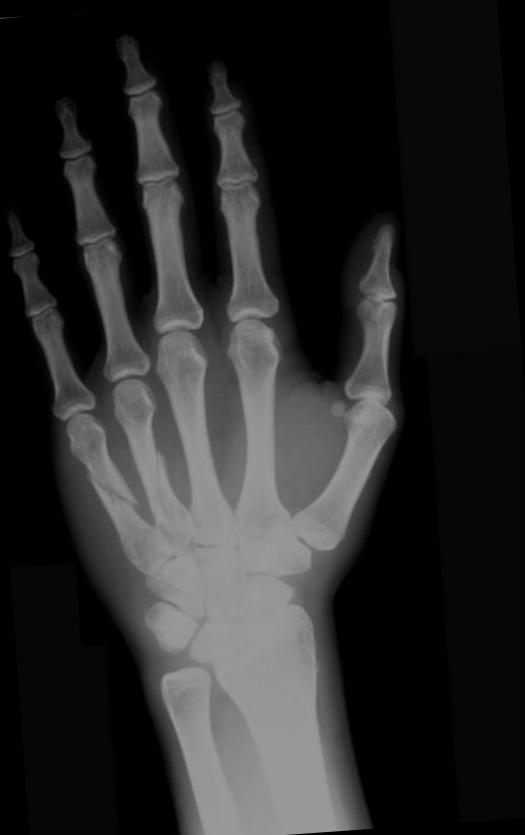fracture: (88, 470, 140, 516), (149, 447, 170, 525)
